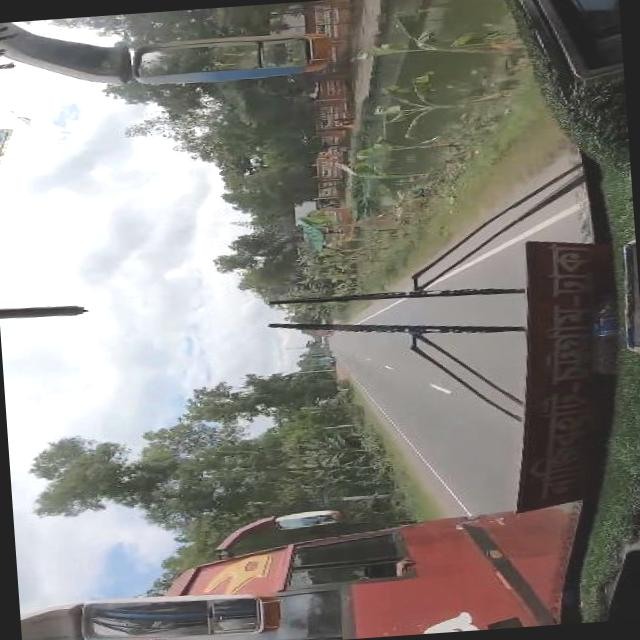bus: (123, 492, 581, 640)
